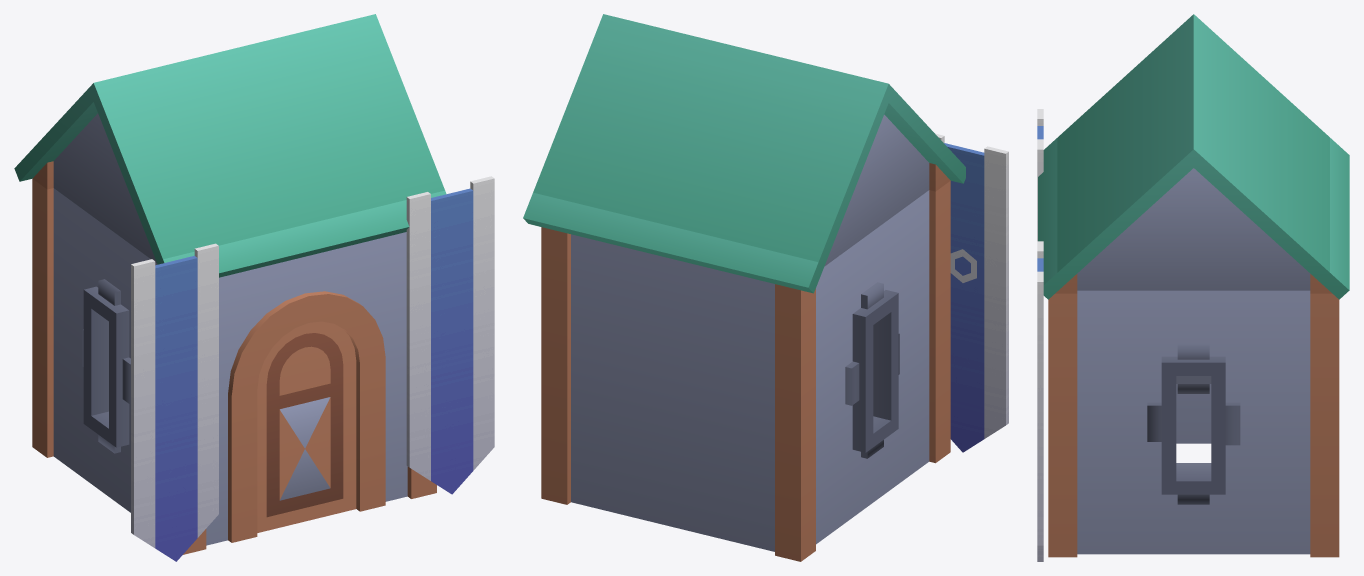
The model's file is barracks_1.glb.
3 renders of one model, left to right at view 1: azimuth 30°, elevation 25°; view 2: azimuth 150°, elevation 25°; view 3: azimuth 270°, elevation 25°, orthographic. The views are drawn at different scales.
Visible parts, largest first — view 1: barracks_1; view 2: barracks_1; view 3: barracks_1.
Part boxes in pixels (x1,y1,x2,y2): barracks_1: (14,14,494,561); barracks_1: (523,14,1008,561); barracks_1: (1037,14,1349,561).
Bounding box in the file's own units: 1.12 × 1.26 × 0.8583.
7 materials, 7 textured.
